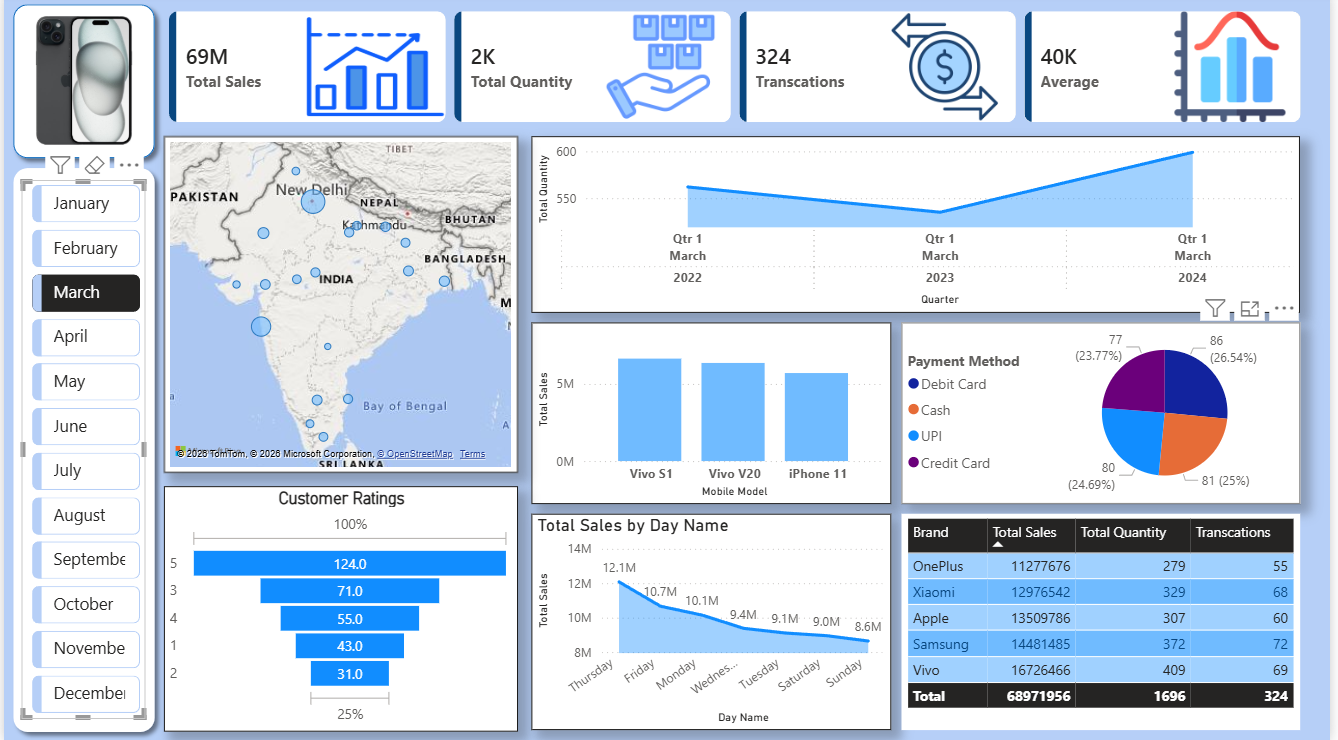

What the dashboard file says about the page in this screenshot:
{"tool":"powerbi","page":{"name":"Page 1","canvas":[1280,720],"ordinal":0},"visuals":[{"type":"shape","box":[0,0,154.4,166.5],"z":0},{"type":"image","box":[12.1,20.5,130.3,124.3],"z":1000},{"type":"shape","box":[0,158,154.4,562.2],"z":2000},{"type":"advancedSlicerVisual","fields":{"Values":["Sales_Data.Date.Variation.Date Hierarchy.Month"]},"box":[16.9,178.6,119.4,520],"z":3000},{"type":"cardVisual","fields":{"Data":["Sales_Data.Total Sales","Sales_Data.Total Quantity","Sales_Data.Transcations","Sales_Data.Average"]},"box":[154.4,10.9,1107.5,117],"z":4000},{"type":"lineChart","fields":{"Category":["Sales_Data.Date.Variation.Date Hierarchy.Year","Sales_Data.Date.Variation.Date Hierarchy.Month","Sales_Data.Date.Variation.Date Hierarchy.Quarter"],"Y":["Sales_Data. Total Quantity"]},"box":[509.1,136.3,742,170.1],"z":5000},{"type":"columnChart","fields":{"Category":["Sales_Data.Mobile Model"],"Y":["Sales_Data.Total Sales"]},"box":[509.1,316.1,347.5,174.9],"z":6000},{"type":"pieChart","fields":{"Category":["Sales_Data.Payment Method"],"Y":["Sales_Data. Transcations"]},"box":[866.2,316.1,384.9,174.9],"z":7000},{"type":"map","fields":{"Category":["Sales_Data.City"],"Size":["Sales_Data.Total Sales"]},"box":[154.4,136.3,341.4,324.5],"z":8000},{"type":"funnel","title":"Customer Ratings ","fields":{"Category":["Sales_Data.Customer Ratings"],"Y":["CountNonNull(Sales_Data.Customer Ratings)"]},"box":[154.4,474.1,341.4,236.5],"z":9000},{"type":"areaChart","fields":{"Category":["Sales_Data.Day Name"],"Y":["Sales_Data.Total Sales"]},"box":[509.1,500.7,347.5,208.7],"z":10000},{"type":"tableEx","fields":{"Values":["Sales_Data.Brand","Sales_Data.Total Sales","Sales_Data. Total Quantity","Sales_Data. Transcations"]},"box":[866.2,500.7,384.9,208.7],"z":11000}]}

Visuals, with their boxes in screenshot pixels (x1, y1, x2, y2), scaled from the page's 1280x720 canvas onto the 1338x740 screenshot:
shape: x1=0 y1=0 x2=161 y2=171
image: x1=13 y1=21 x2=149 y2=149
shape: x1=0 y1=162 x2=161 y2=739
advancedSlicerVisual - Sales_Data.Date.Variation.Date Hierarchy.Month: x1=18 y1=184 x2=142 y2=718
cardVisual - Sales_Data.Total Sales x Sales_Data.Total Quantity: x1=161 y1=11 x2=1319 y2=131
lineChart - Sales_Data.Date.Variation.Date Hierarchy.Year x Sales_Data.Date.Variation.Date Hierarchy.Month: x1=532 y1=140 x2=1308 y2=315
columnChart - Sales_Data.Mobile Model x Sales_Data.Total Sales: x1=532 y1=325 x2=895 y2=505
pieChart - Sales_Data.Payment Method x Sales_Data. Transcations: x1=905 y1=325 x2=1308 y2=505
map - Sales_Data.City x Sales_Data.Total Sales: x1=161 y1=140 x2=518 y2=474
"Customer Ratings " funnel: x1=161 y1=487 x2=518 y2=730
areaChart - Sales_Data.Day Name x Sales_Data.Total Sales: x1=532 y1=515 x2=895 y2=729
tableEx - Sales_Data.Brand x Sales_Data.Total Sales: x1=905 y1=515 x2=1308 y2=729
